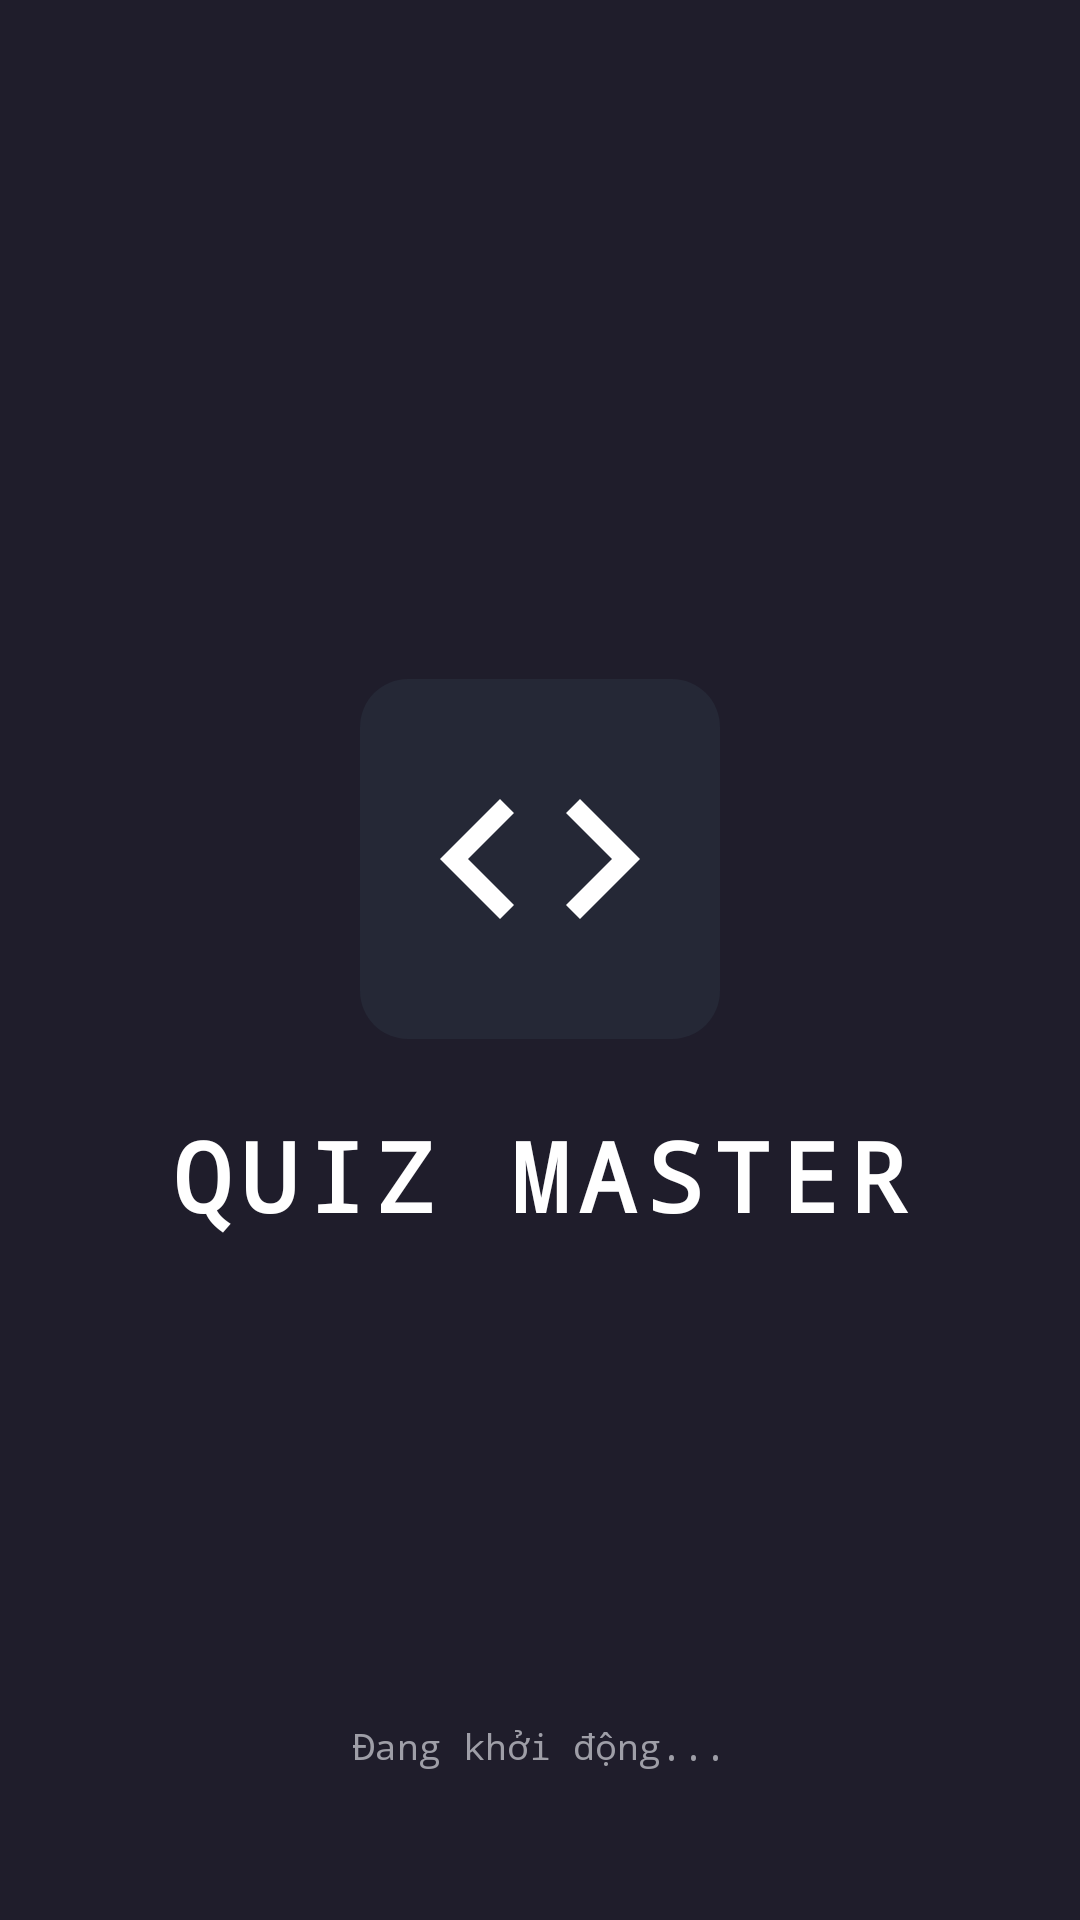

Icon bounding boxes for this 1080*1920 phone screenshot, format (x1, y1, x2, y2):
code: (360, 679, 720, 1039)
